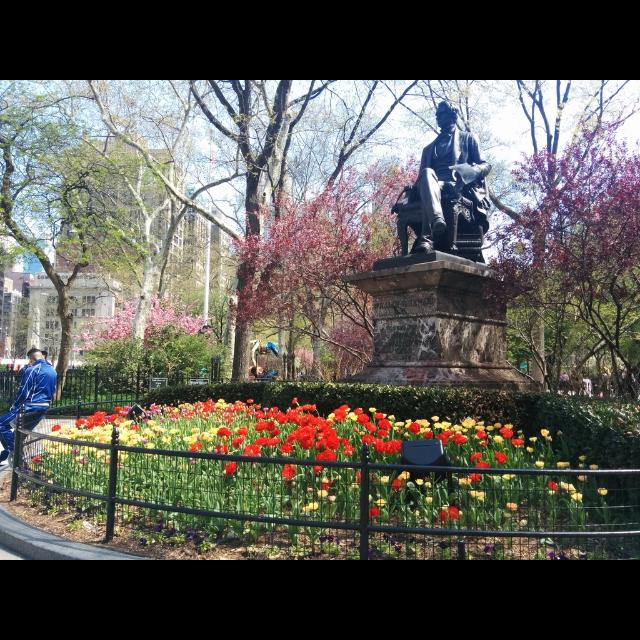Flower: (30, 397, 606, 529), (512, 438, 522, 444)
